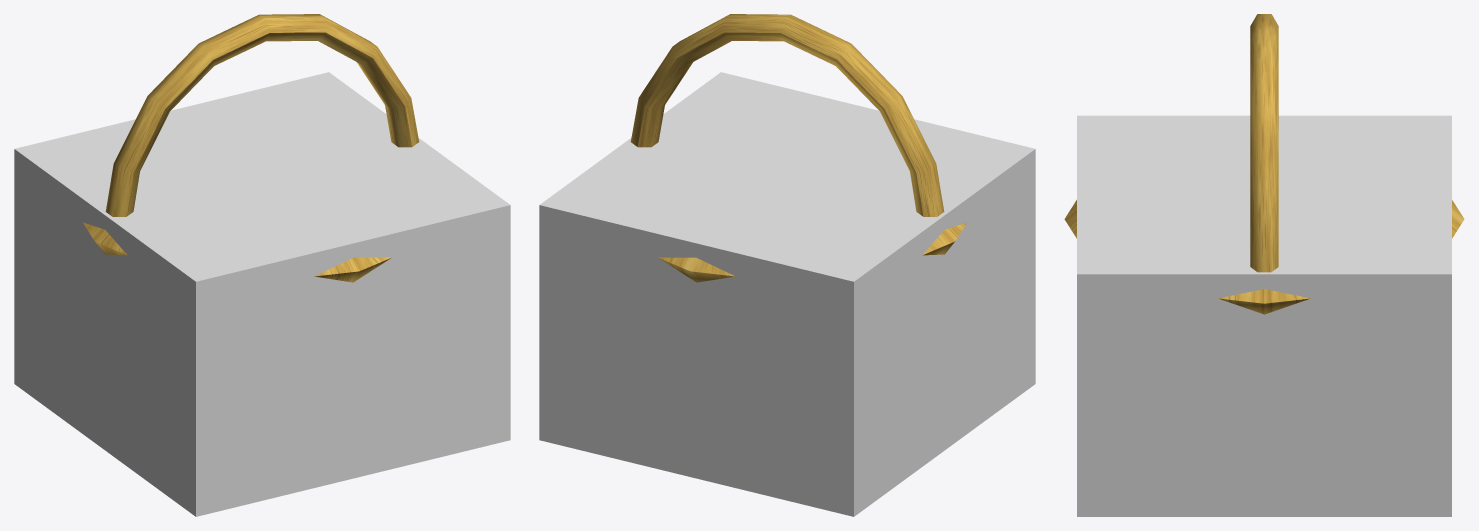
Rendered from SM_Basket.fbx.
3 renders of one model, left to right at view 1: azimuth 30°, elevation 25°; view 2: azimuth 150°, elevation 25°; view 3: azimuth 270°, elevation 25°, orthographic. The views are drawn at different scales.
Parts seen in each view (by area): view 1: Basket_Col0, Basket_Body; view 2: Basket_Col0, Basket_Body; view 3: Basket_Col0, Basket_Body.
Boxes of the visible parts, left/top/right/bottom form: Basket_Col0: left=14, top=72, right=510, bottom=516; Basket_Body: left=83, top=14, right=419, bottom=282; Basket_Col0: left=539, top=72, right=1035, bottom=516; Basket_Body: left=630, top=14, right=966, bottom=282; Basket_Col0: left=1077, top=115, right=1451, bottom=516; Basket_Body: left=1064, top=14, right=1464, bottom=314.
Bounding box in the file's own units: 2.24 × 2.52 × 2.24.
